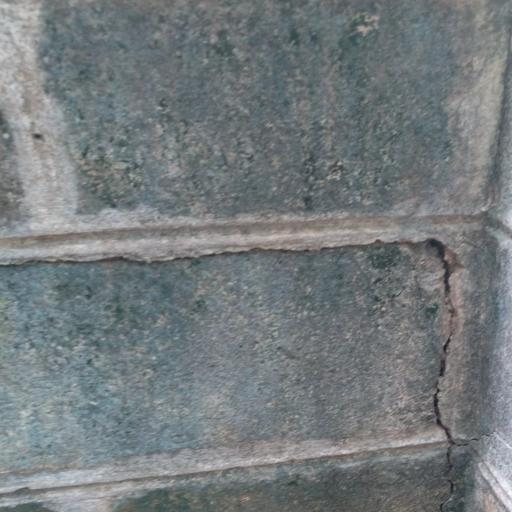algae: (310, 11, 512, 512)
